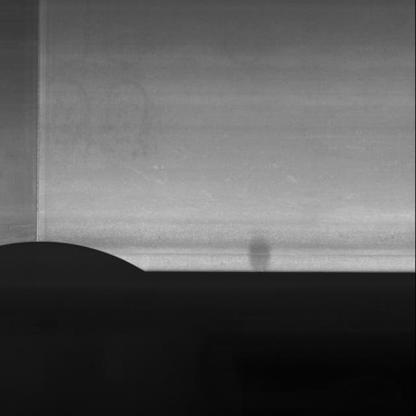crescent_gap: (0, 234, 156, 278)
welding_line: (25, 0, 50, 242)
